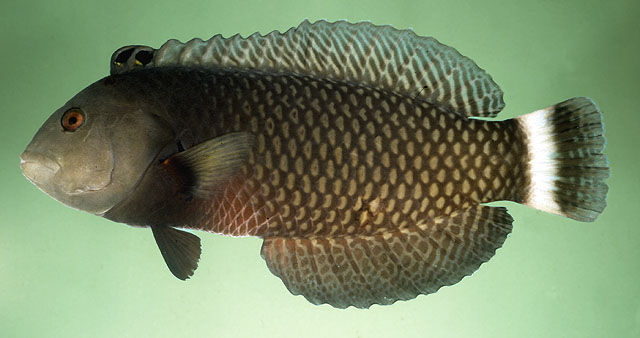fish: (20, 19, 611, 309)
